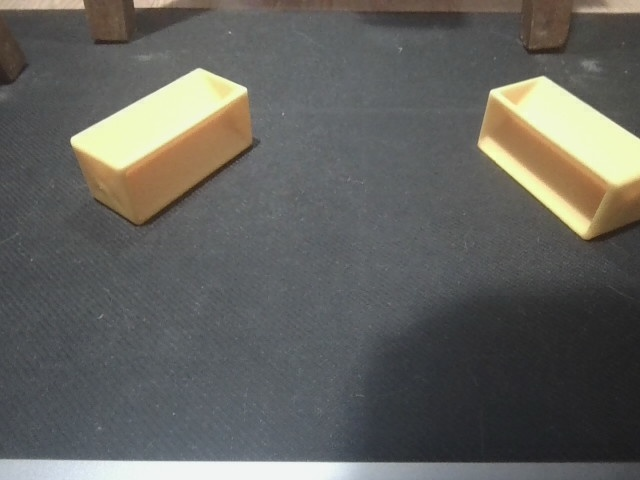YellowSample: (63, 65, 258, 228), (472, 73, 640, 243)
